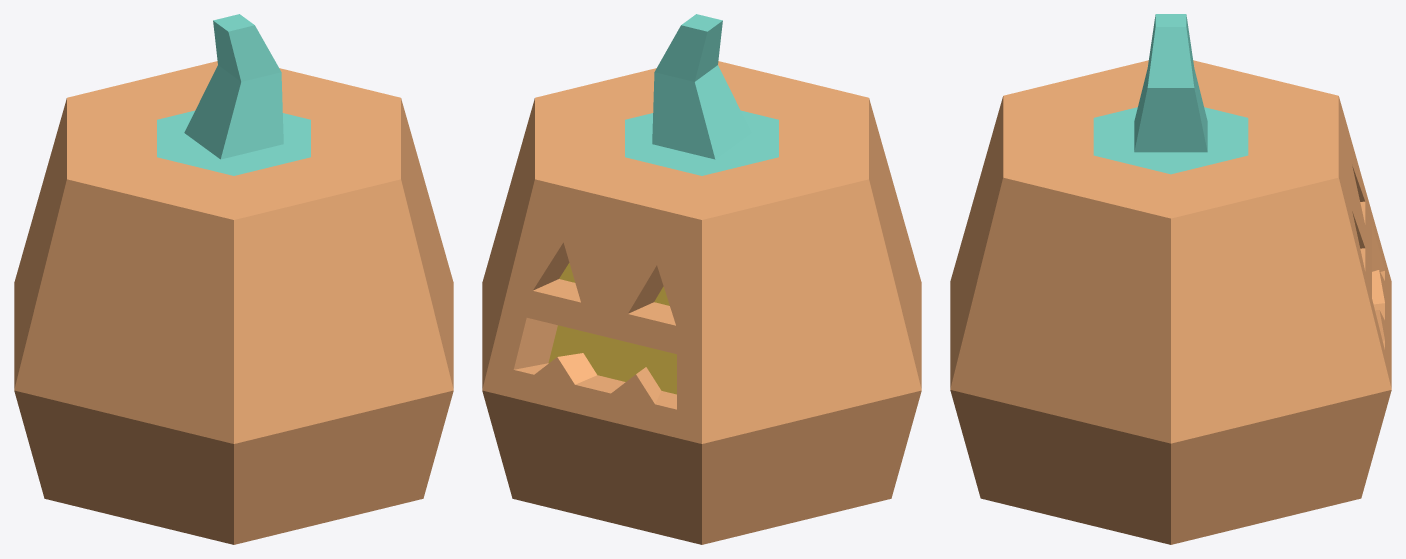
The model's file is pumpkinTallCarved.glb.
3 views of the same model, side by side, from view 1: azimuth 30°, elevation 25°; view 2: azimuth 150°, elevation 25°; view 3: azimuth 270°, elevation 25° (orthographic).
Parts seen in each view (by area): view 1: pumpkinTallCarved; view 2: pumpkinTallCarved; view 3: pumpkinTallCarved.
Boxes of the visible parts, box(x1,y1,x2,y2) form: pumpkinTallCarved: box(14, 14, 453, 544); pumpkinTallCarved: box(482, 14, 921, 544); pumpkinTallCarved: box(950, 14, 1391, 544).
Bounding box in the file's own units: 0.2784 × 0.26 × 0.2411.
